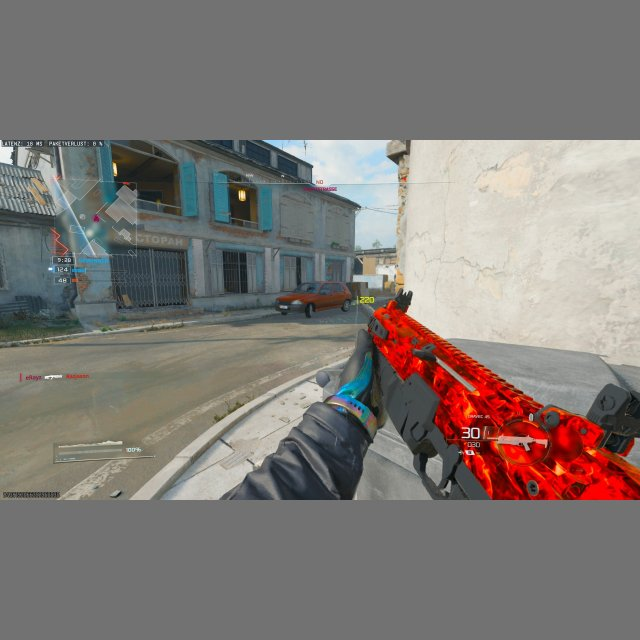player: (75, 275, 90, 303), (61, 285, 75, 310)
